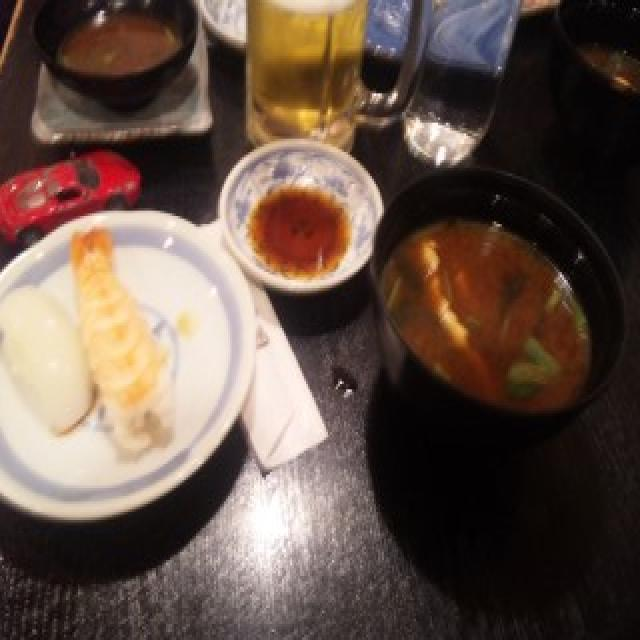Sushi: (0, 230, 168, 430)
